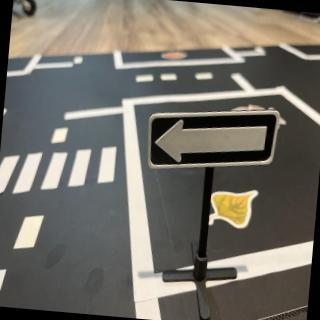road_crosswalk: (1, 131, 120, 208)
sign_oneway_left: (146, 98, 282, 182)
